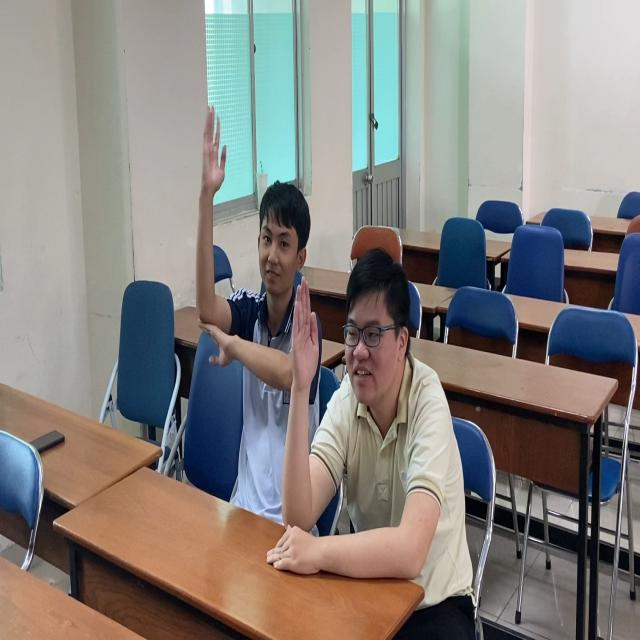raise_hand: (290, 228, 460, 585), (193, 97, 316, 406)
